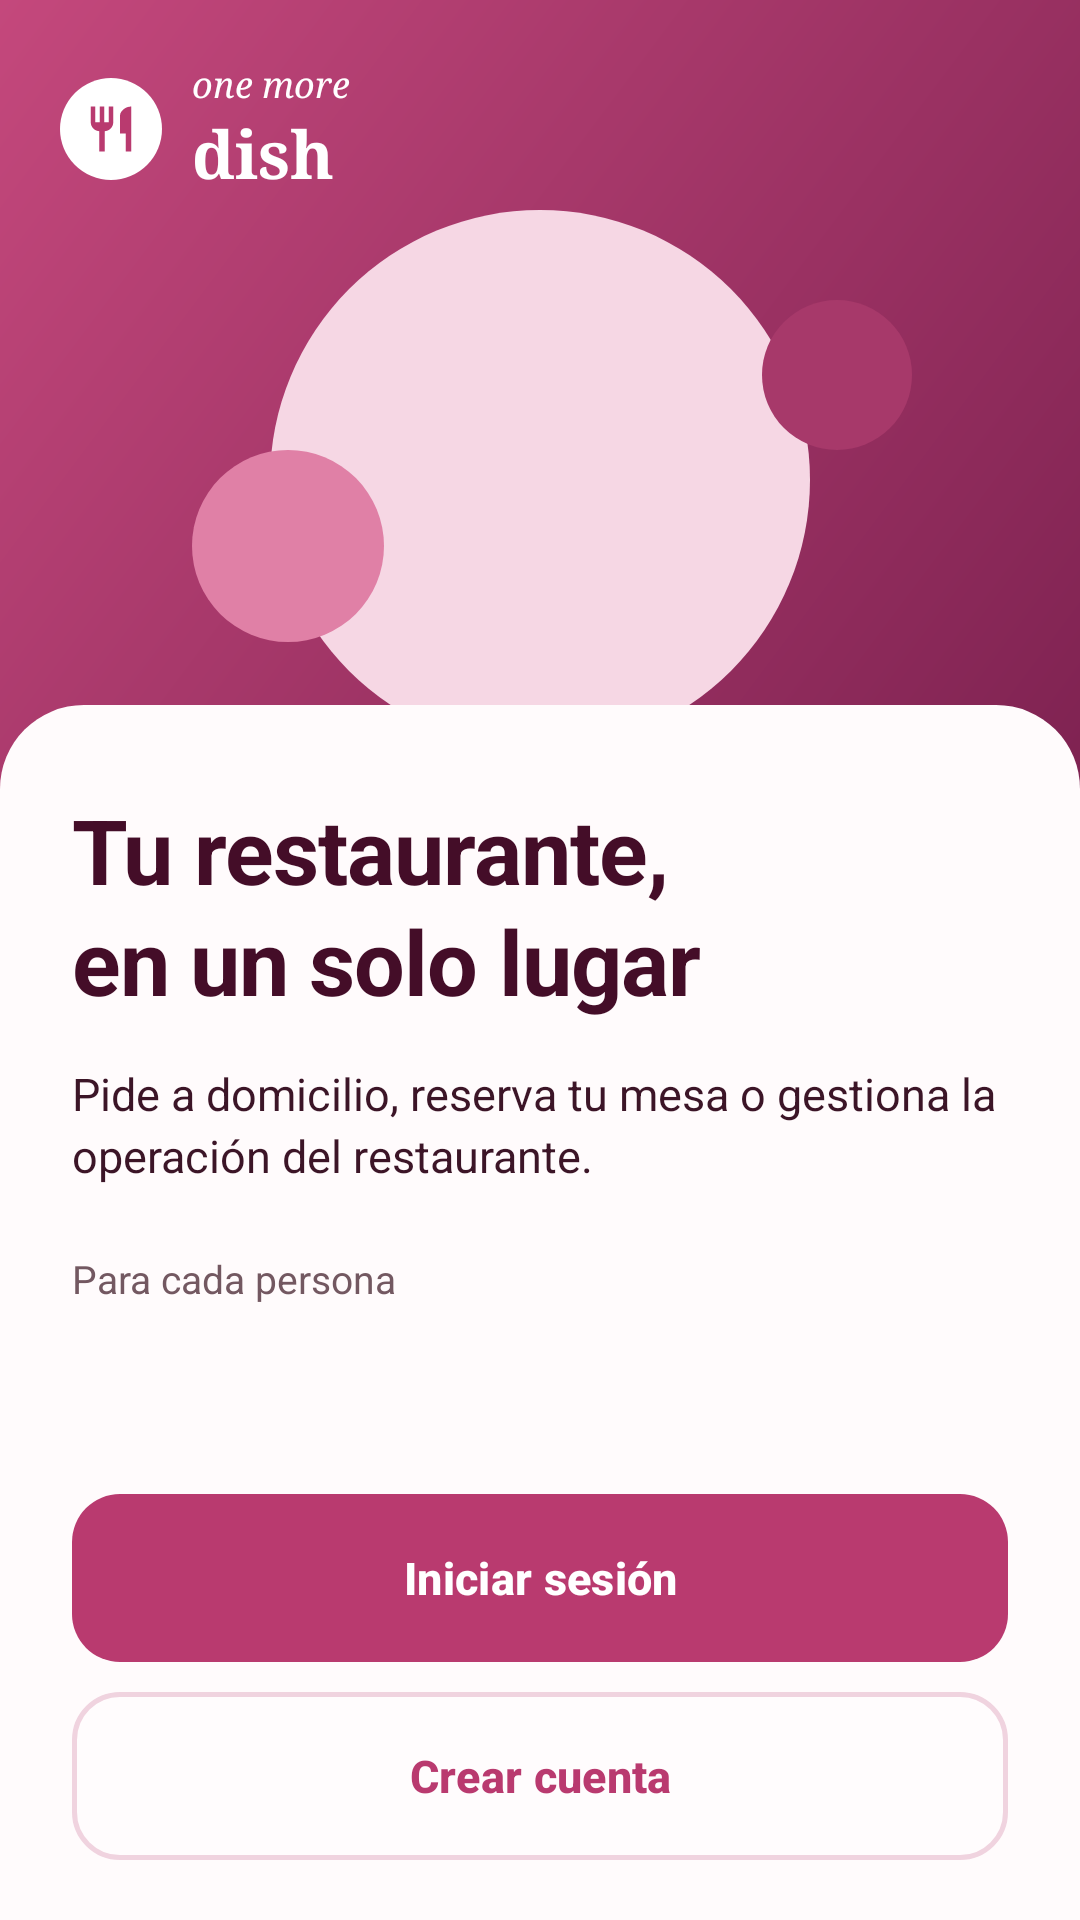

Named icons in this screenshot (1080w x 1920h) and their bounding boxes, (x1, y1, x2, y2):
cubiertos: (90, 106, 132, 152)
